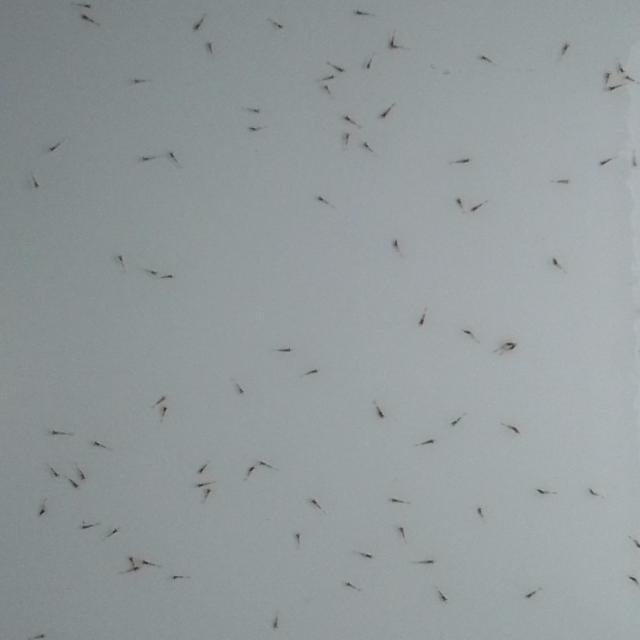shrimp-seed: (630, 158, 640, 168), (92, 438, 102, 448), (70, 480, 80, 490), (624, 74, 636, 82), (480, 54, 492, 62), (51, 428, 63, 436), (80, 13, 90, 21), (470, 205, 480, 213), (551, 256, 559, 266), (512, 426, 522, 434), (258, 459, 268, 467), (196, 481, 206, 489), (525, 592, 535, 600), (440, 595, 450, 603), (206, 41, 214, 50), (140, 155, 149, 163), (427, 437, 436, 445), (247, 465, 256, 473), (52, 470, 61, 478), (588, 488, 597, 496), (141, 558, 150, 566), (132, 564, 141, 572), (391, 497, 402, 503), (562, 43, 570, 51), (356, 8, 364, 16), (276, 22, 284, 30), (194, 23, 202, 31), (363, 141, 371, 149), (562, 177, 570, 185), (392, 238, 400, 246), (32, 180, 40, 188), (116, 254, 124, 262), (418, 318, 426, 326), (476, 507, 484, 515), (312, 498, 320, 506), (346, 580, 354, 588), (272, 622, 280, 630), (310, 367, 319, 374), (79, 474, 88, 481), (536, 488, 546, 494), (364, 63, 372, 70), (344, 114, 352, 121), (168, 150, 175, 158), (464, 157, 472, 164), (456, 198, 464, 205), (608, 85, 616, 92), (238, 387, 245, 395), (450, 419, 458, 426), (198, 466, 205, 474), (38, 508, 45, 516), (508, 344, 517, 350), (629, 576, 638, 582), (634, 539, 640, 548), (112, 527, 119, 534), (604, 73, 612, 79), (390, 44, 398, 50), (390, 38, 396, 46), (250, 126, 258, 132), (48, 146, 56, 152), (600, 160, 608, 166), (150, 270, 158, 276), (464, 329, 472, 335), (161, 406, 169, 412), (378, 412, 386, 418), (366, 554, 374, 560), (426, 558, 434, 564), (172, 574, 180, 580), (85, 3, 92, 9), (328, 74, 335, 80), (323, 84, 330, 90), (381, 112, 388, 118), (167, 273, 174, 279), (160, 395, 167, 401), (205, 488, 212, 494), (82, 524, 89, 530), (39, 632, 46, 638), (284, 347, 292, 352), (505, 341, 513, 346), (620, 68, 626, 74), (338, 67, 344, 73), (134, 78, 140, 84), (254, 108, 260, 114), (344, 132, 350, 138), (318, 196, 324, 202), (296, 532, 302, 538), (398, 526, 404, 532), (128, 556, 134, 562)
